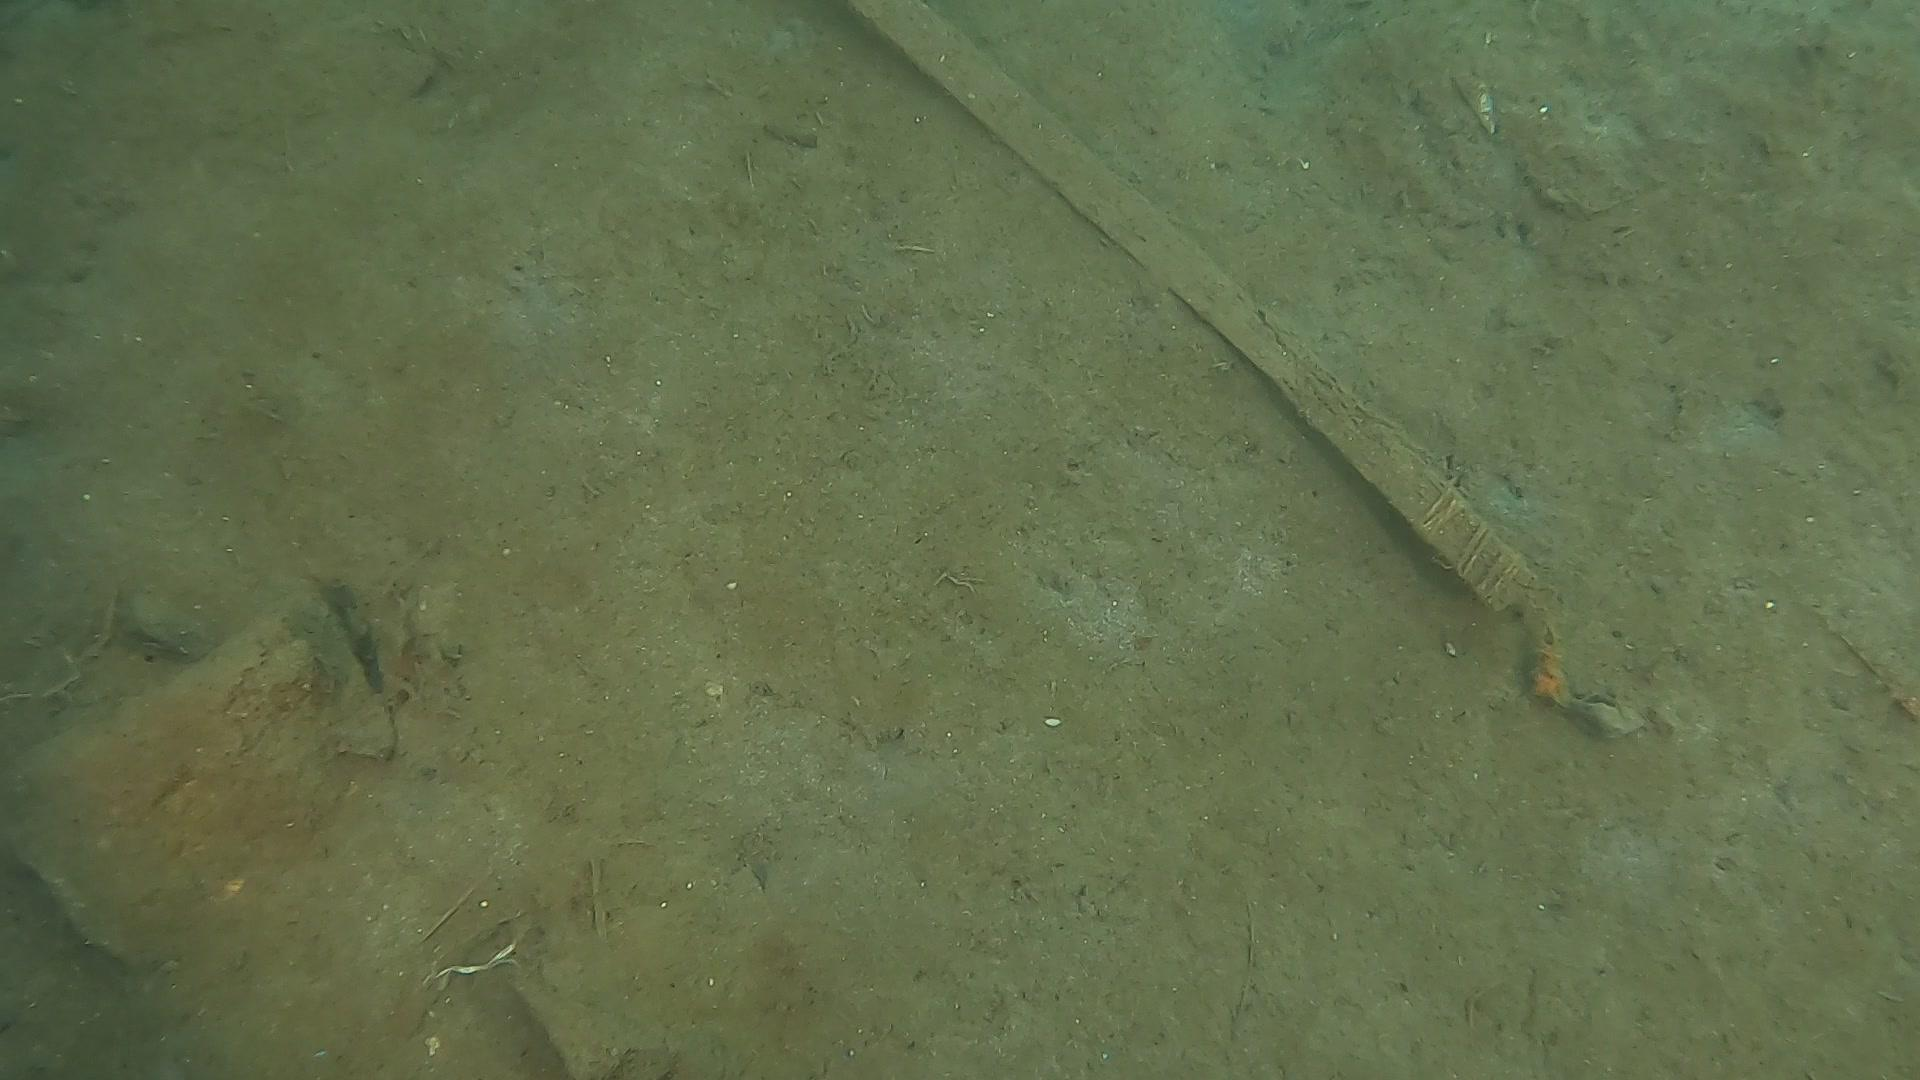wood: (843, 0, 1536, 612)
